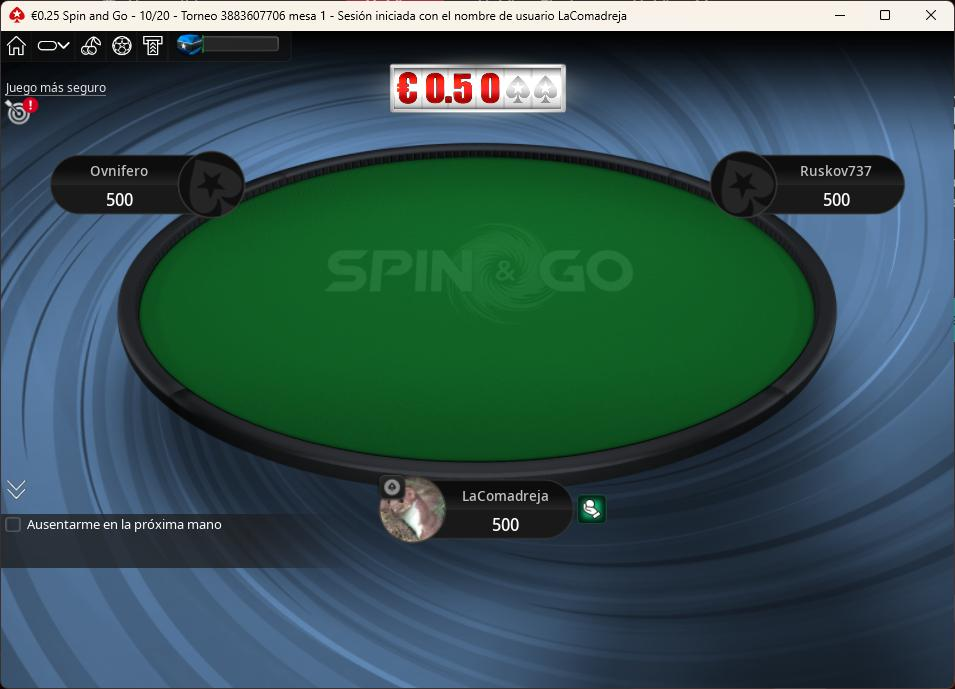Player: (708, 149, 908, 221), (49, 151, 246, 221)
PlayerChips: (105, 188, 141, 210), (822, 189, 854, 208)
PrincipalPlayer: (376, 472, 577, 541)
PrincipalPlayerChips: (489, 515, 525, 533)
SmallBigBlind: (130, 7, 181, 26)
